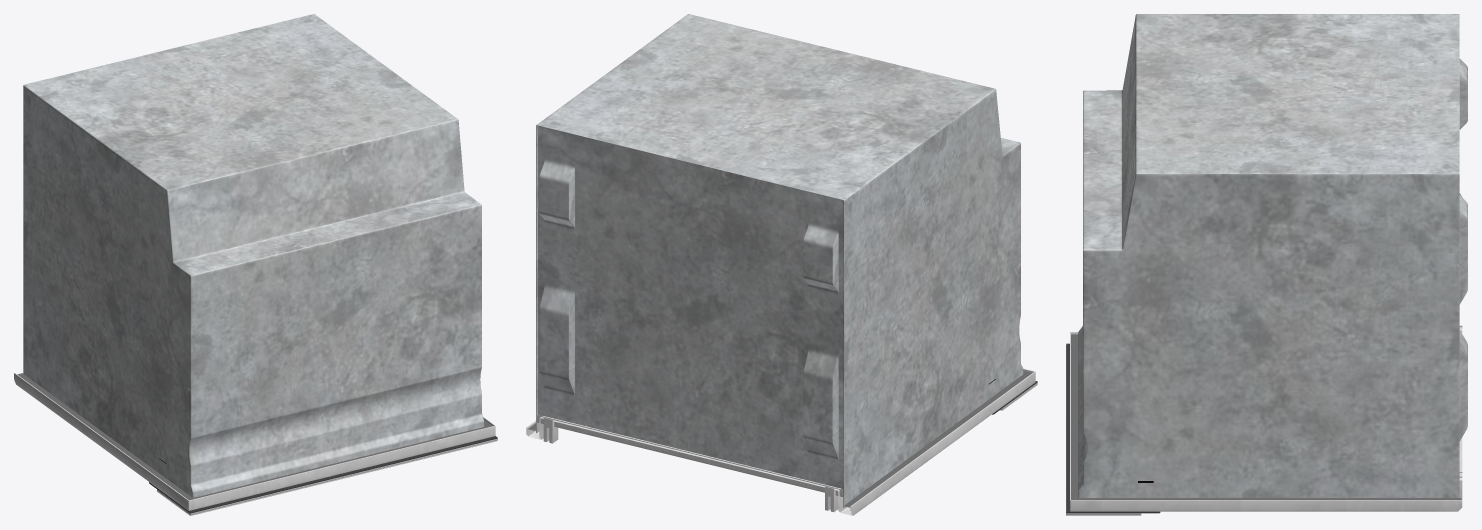
File: SM_Oven.obj
3 renders of one model, left to right at view 1: azimuth 30°, elevation 25°; view 2: azimuth 150°, elevation 25°; view 3: azimuth 270°, elevation 25°, orthographic. The views are drawn at different scales.
Parts seen in each view (by area): view 1: SM_Oven; view 2: SM_Oven; view 3: SM_Oven.
Part boxes in pixels (x1,y1,x2,y2): SM_Oven: [14, 14, 497, 515]; SM_Oven: [526, 14, 1037, 515]; SM_Oven: [1066, 14, 1467, 515].
Bounding box in the file's own units: 0.5909 × 0.5525 × 0.595.
